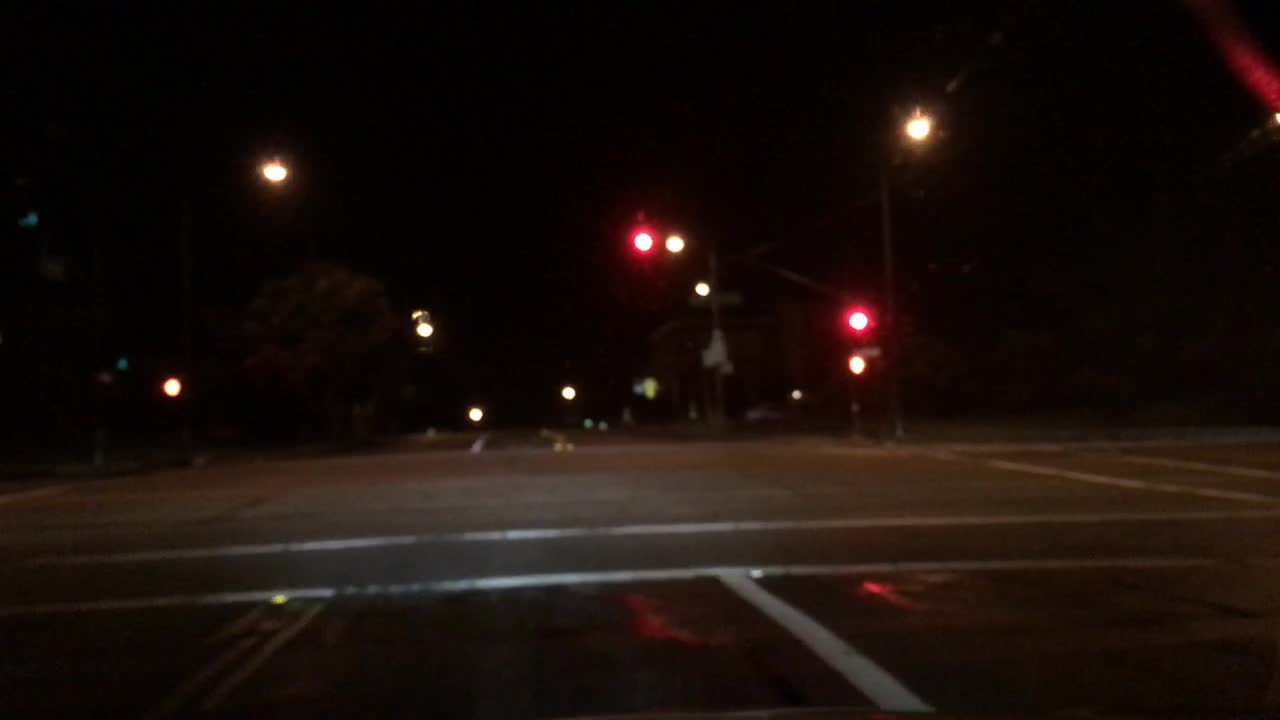traffic light: (15, 174, 42, 234), (840, 300, 874, 334), (631, 229, 654, 265), (157, 373, 185, 398), (96, 353, 130, 373), (847, 354, 867, 373)
traffic sign: (685, 288, 744, 309), (697, 341, 729, 366), (641, 376, 660, 403), (850, 342, 882, 356)
